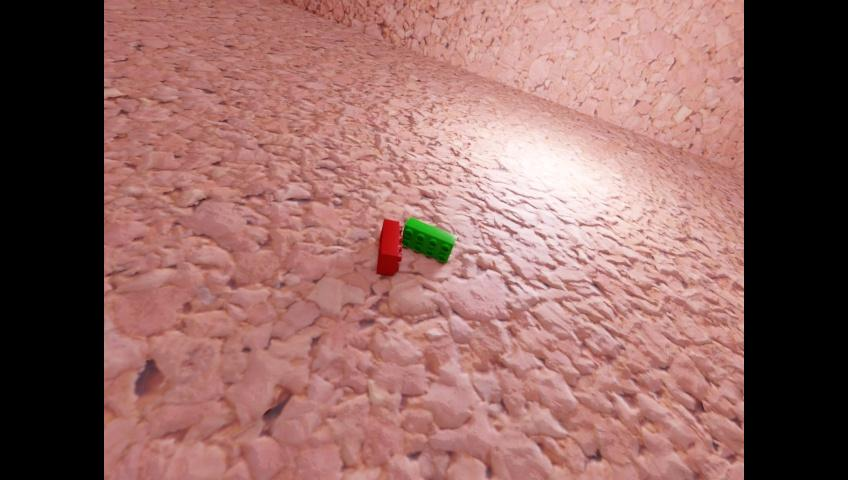4x2_green: (402, 216, 456, 262)
4x2_red: (376, 218, 401, 276)
